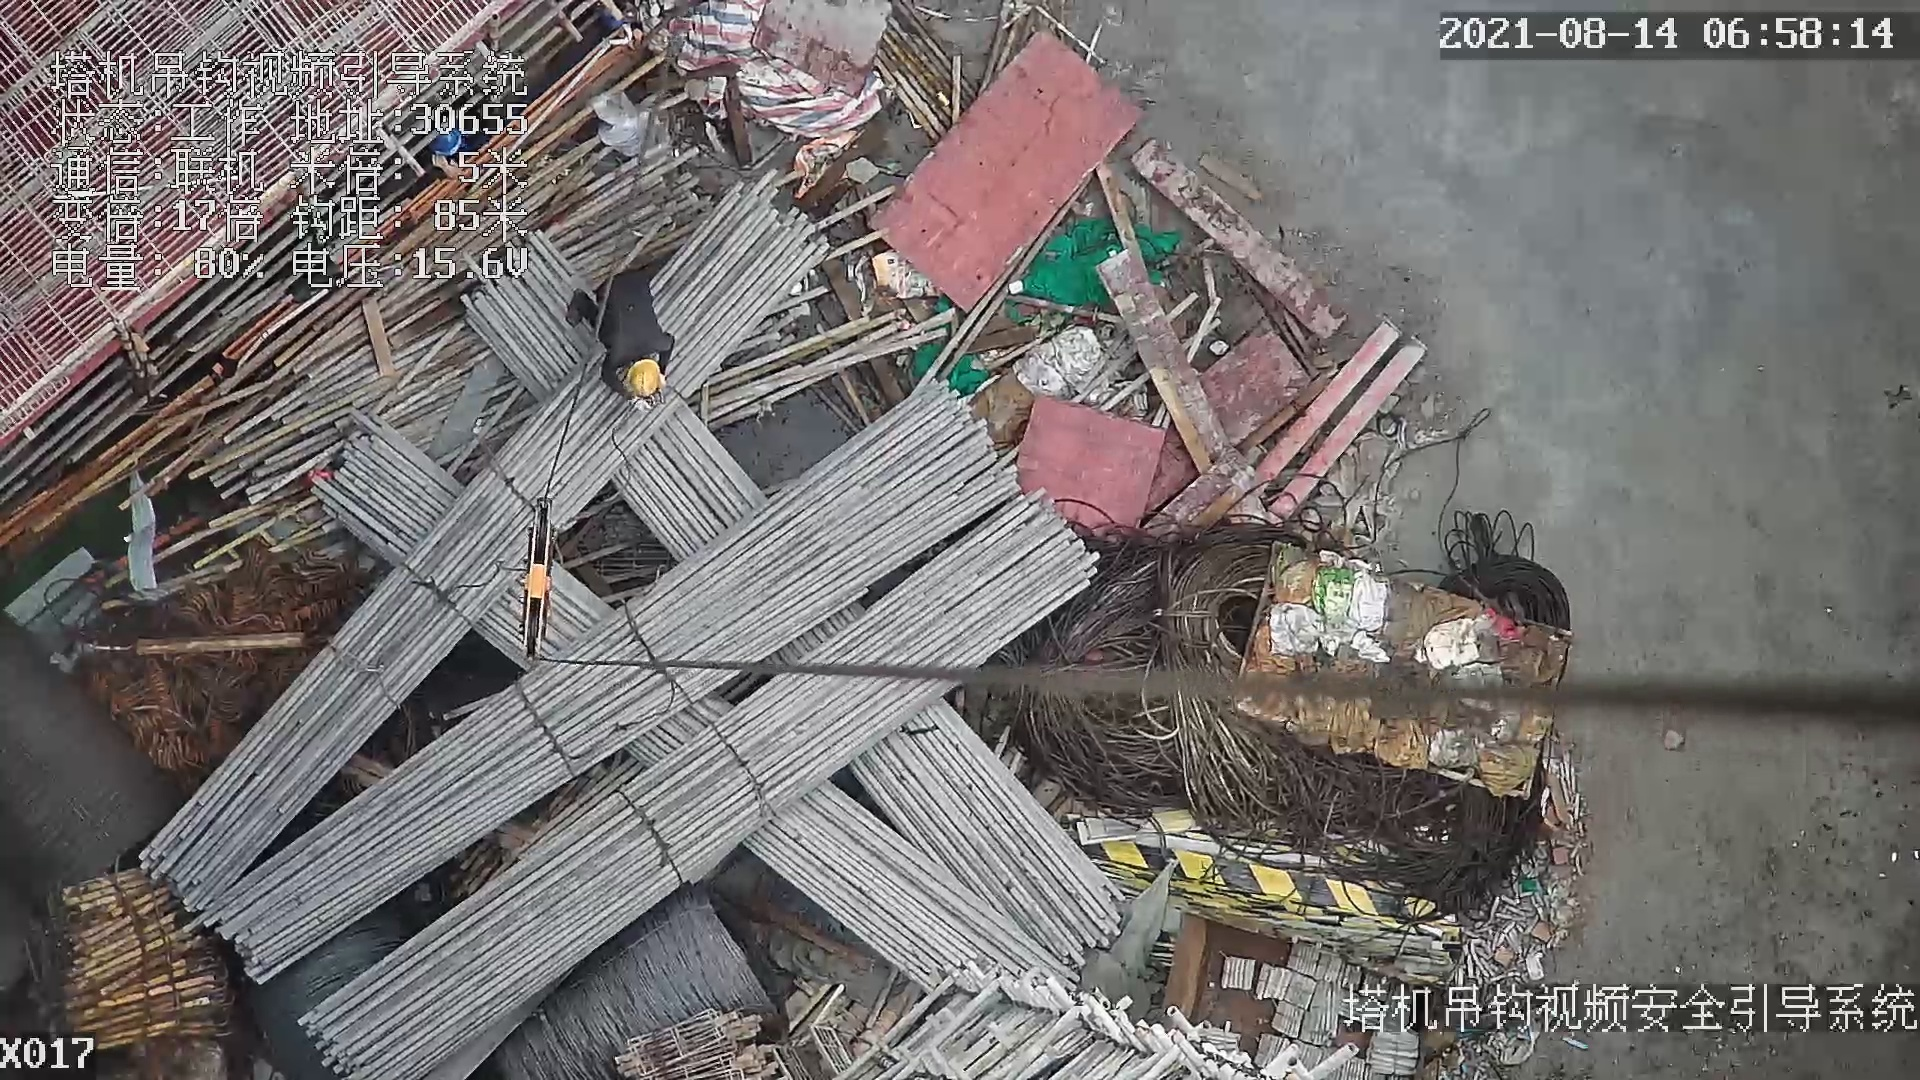helmet: (628, 358, 660, 398)
hook: (520, 494, 560, 669)
person: (558, 265, 673, 412)
rebar: (140, 177, 833, 912), (198, 384, 1024, 984), (294, 489, 1100, 1080), (848, 701, 1123, 970), (739, 780, 1082, 996)
scaffold: (59, 868, 236, 1051)
